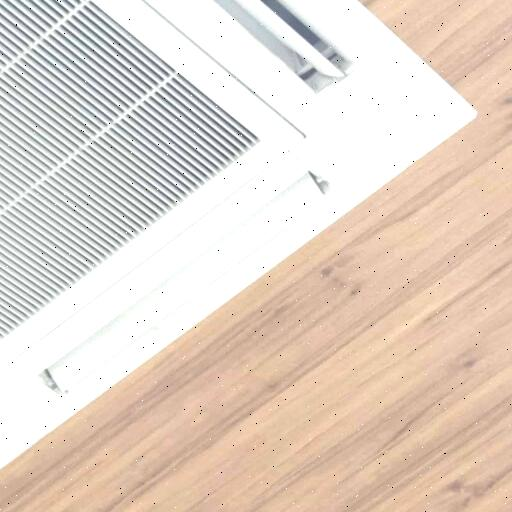4-way-ac: (0, 0, 457, 482)
